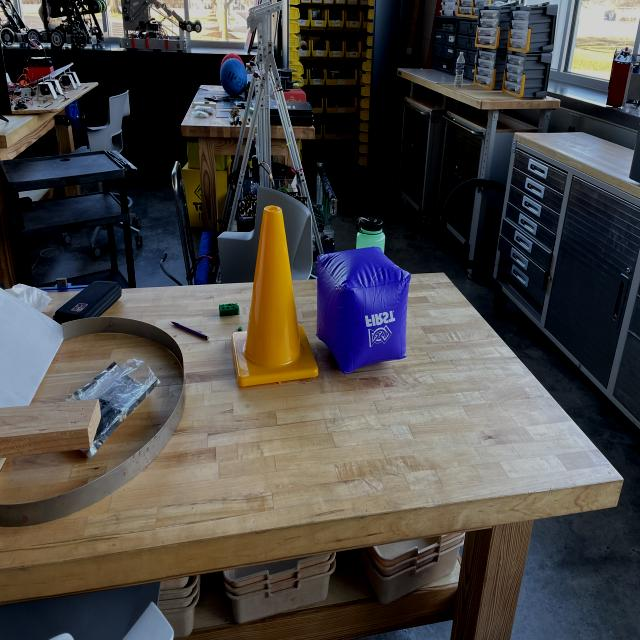frc_cone: (237, 202, 308, 392)
frc_cube: (317, 243, 415, 377)
